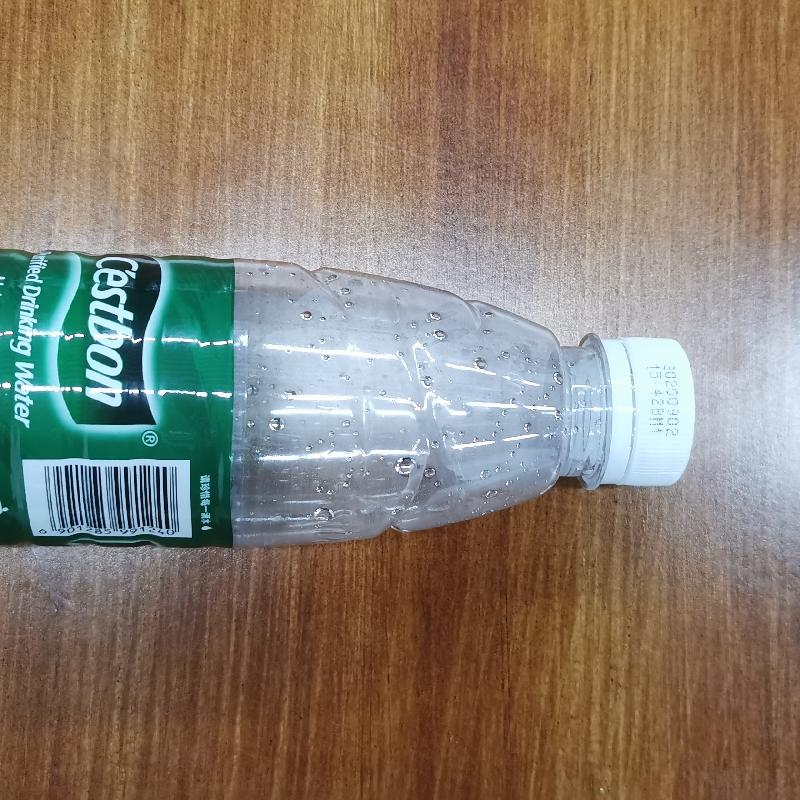bottles: (2, 237, 703, 563)
